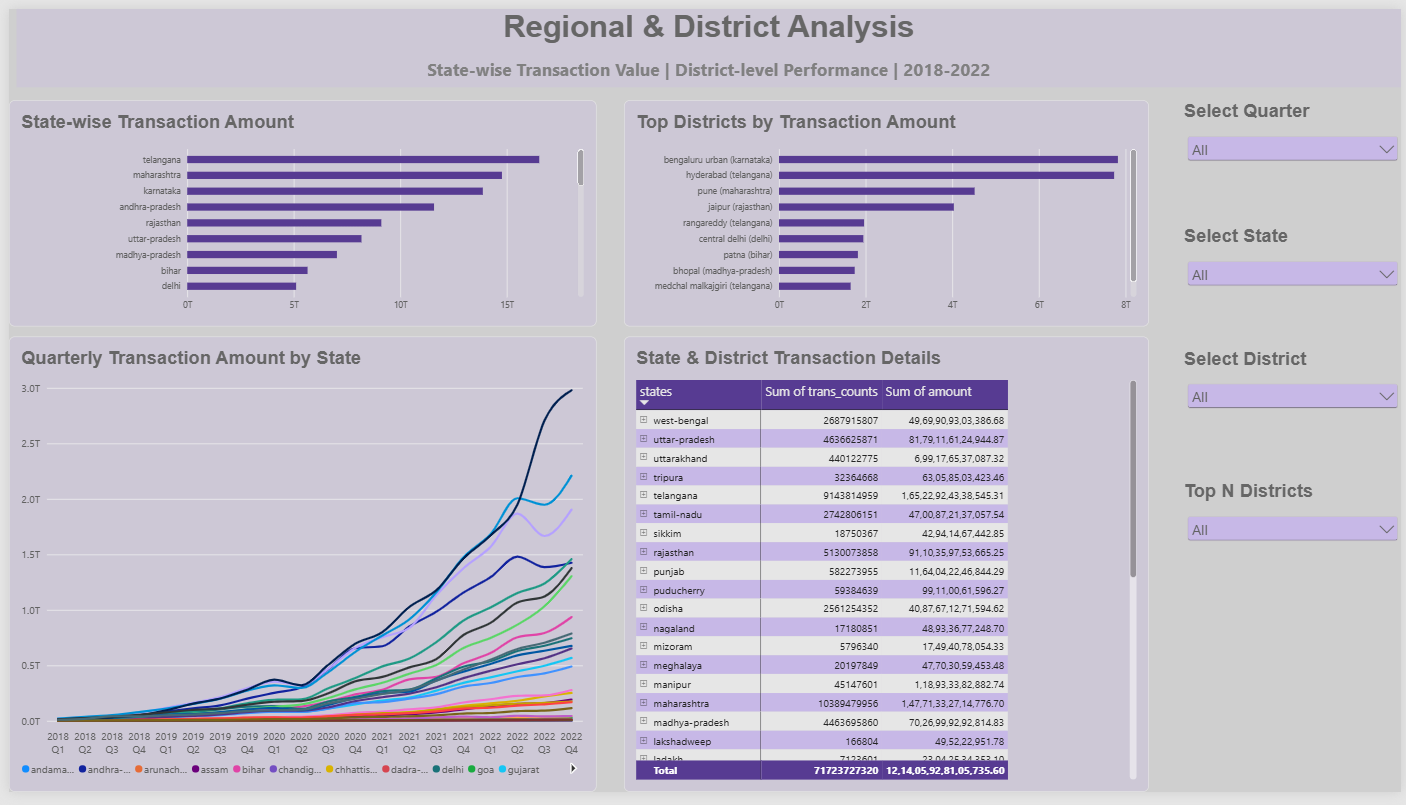

The page's visual inventory and layout, read from the dashboard file:
{"tool":"powerbi","page":{"name":"Regional & District Analysis","canvas":[1920,1080],"ordinal":2},"visuals":[{"type":"textbox","box":[10,0,1910,108],"z":0},{"type":"slicer","title":"Select State","fields":{"Values":["DimState.states"]},"box":[1620,298,300,114],"z":1000},{"type":"clusteredBarChart","title":"State-wise Transaction Amount","fields":{"Category":["map_transaction.states"],"Y":["Sum(map_transaction.amount)"]},"box":[0,126,810,312],"z":2000},{"type":"clusteredBarChart","title":"Top Districts by Transaction Amount","fields":{"Category":["top_transaction.District Label"],"Y":["Sum(top_transaction.amount)"]},"box":[848,126,724,312],"z":3000},{"type":"lineChart","title":"Quarterly Transaction Amount by State","fields":{"Category":["DimQuarter.year_quarter"],"Series":["map_transaction.states"],"Y":["Sum(map_transaction.amount)"]},"box":[0,452,810,628],"z":4000},{"type":"pivotTable","title":"State & District Transaction Details","fields":{"Rows":["map_transaction.states","map_transaction.district"],"Values":["Sum(map_transaction.trans_counts)","Sum(map_transaction.amount)"]},"box":[848,452,724,628],"z":5000},{"type":"slicer","title":"Select Quarter","fields":{"Values":["DimQuarter.year_quarter"]},"box":[1620,126,300,118],"z":6000},{"type":"slicer","title":"Select District","fields":{"Values":["map_transaction.district"]},"box":[1620,468,300,144],"z":6001},{"type":"slicer","title":"Top N Districts","fields":{"Values":["Top N Selector.Top N"]},"box":[1620,650,300,116],"z":6002}]}

Visuals, with their boxes in screenshot pixels (x1, y1, x2, y2), scaled from the page's 1920x1080 canvas onto the 1406x805 screenshot:
textbox: 7/0/1405/80
"Select State" slicer: 1186/222/1405/307
"State-wise Transaction Amount" clusteredBarChart: 0/94/593/326
"Top Districts by Transaction Amount" clusteredBarChart: 621/94/1151/326
"Quarterly Transaction Amount by State" lineChart: 0/337/593/804
"State & District Transaction Details" pivotTable: 621/337/1151/804
"Select Quarter" slicer: 1186/94/1405/182
"Select District" slicer: 1186/349/1405/456
"Top N Districts" slicer: 1186/484/1405/571
